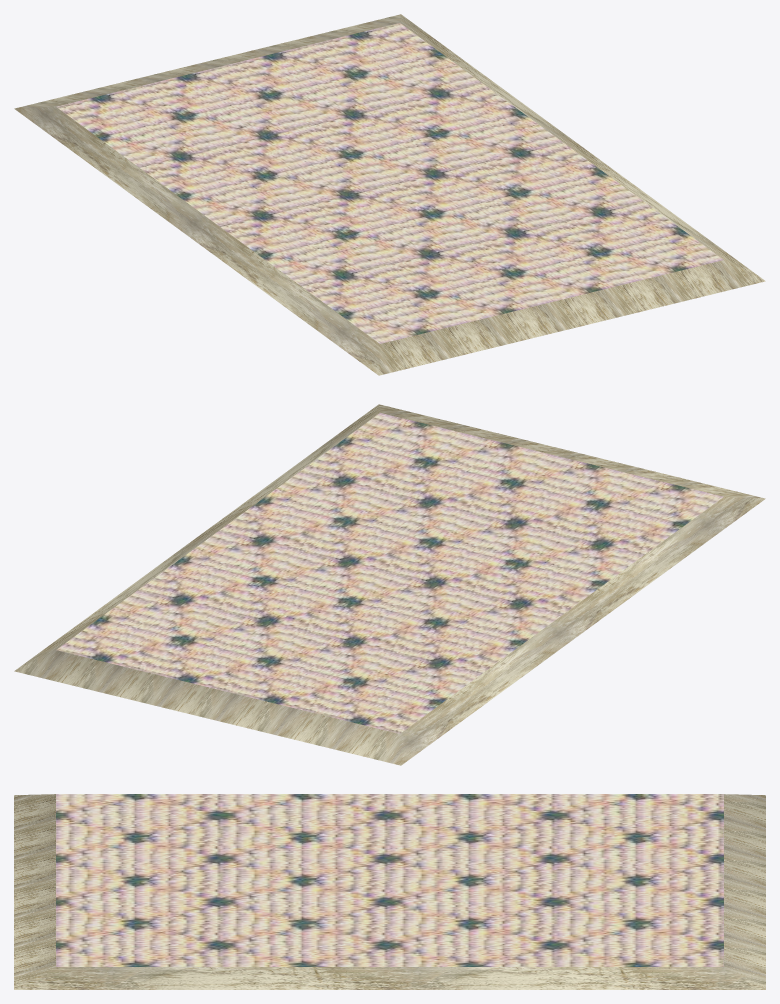
File: objects_rug_1.glb
The picture shows the model from 3 angles, top to bottom: view 1: azimuth 30°, elevation 25°; view 2: azimuth 150°, elevation 25°; view 3: azimuth 270°, elevation 25°; orthographic projection. The views are drawn at different scales.
Visible parts, largest first — view 1: rug_1; view 2: rug_1; view 3: rug_1.
Boxes of the visible parts, left/top/right/bottom form: rug_1: left=14, top=14, right=765, bottom=375; rug_1: left=14, top=404, right=765, bottom=765; rug_1: left=14, top=794, right=765, bottom=989.
Size of the model in its own units: 3.25 by 0.0928 by 5.3.
2 materials, 2 textured.
